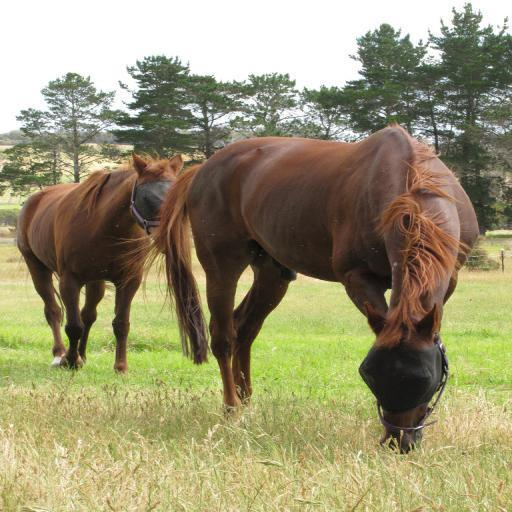horse: (116, 122, 482, 456), (18, 148, 186, 374)
